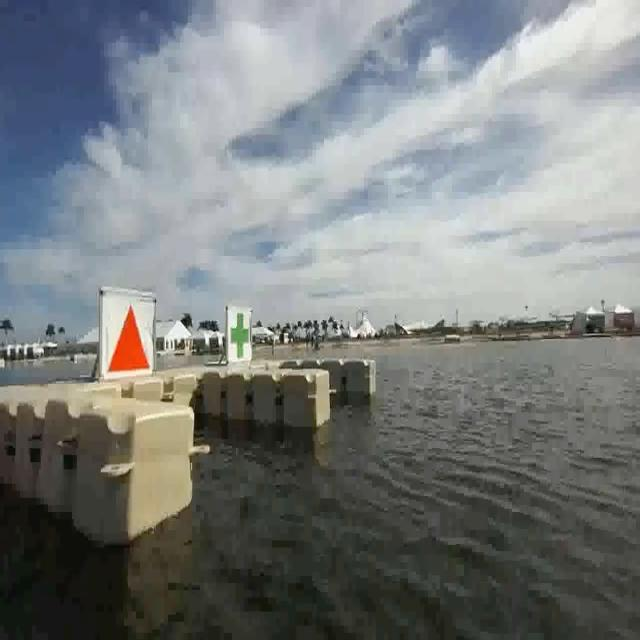blue-cross: (224, 306, 258, 362)
red-dot: (102, 291, 150, 378)
